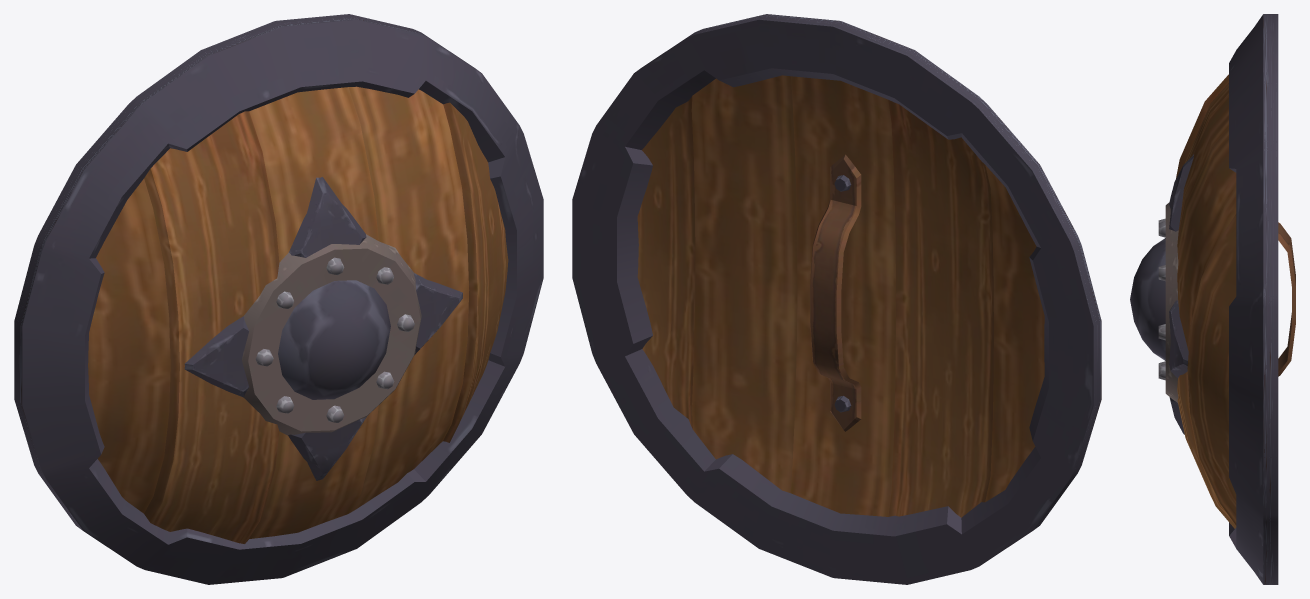
Rendered from Shield_Wooden.glb.
3 views of the same model, side by side, from view 1: azimuth 30°, elevation 25°; view 2: azimuth 150°, elevation 25°; view 3: azimuth 270°, elevation 25° (orthographic). The views are drawn at different scales.
Parts seen in each view (by area): view 1: Shield_Wooden; view 2: Shield_Wooden; view 3: Shield_Wooden.
Boxes of the visible parts, left/top/right/bottom form: Shield_Wooden: left=14, top=14, right=543, bottom=584; Shield_Wooden: left=572, top=14, right=1101, bottom=584; Shield_Wooden: left=1130, top=14, right=1295, bottom=584.
Size of the model in its own units: 0.6146 by 0.6209 by 0.1788.
Materials: 3 (3 with a texture image).
